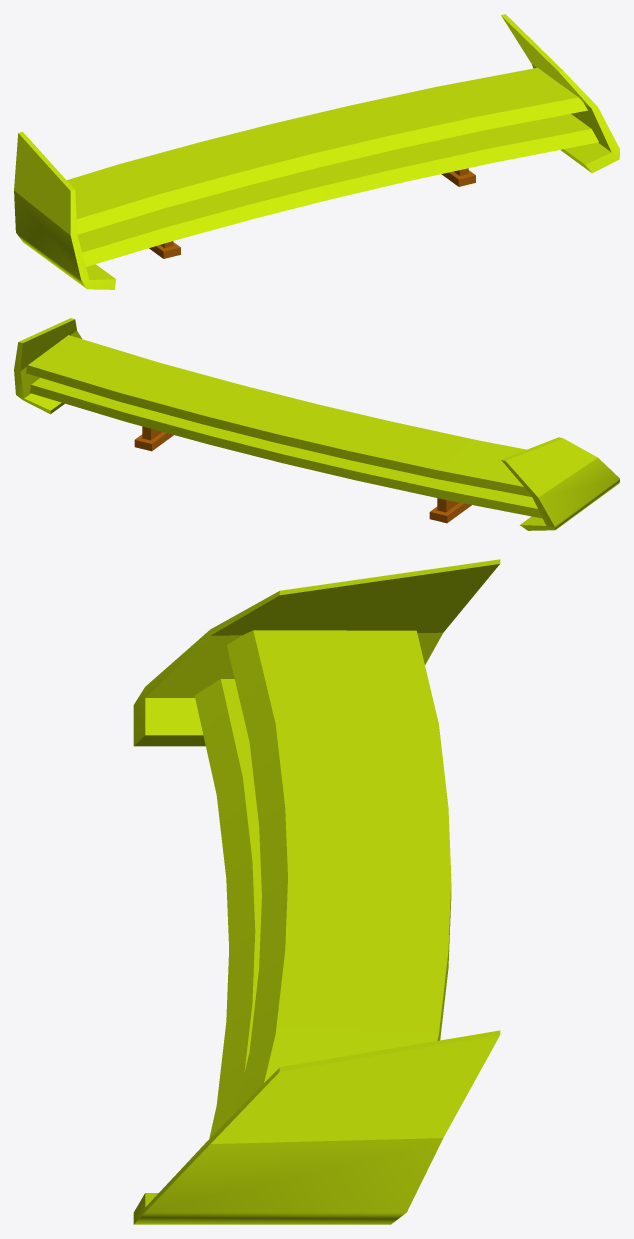
File: Spoiler03_ColorCoded.fbx
3 renders of one model, top to bottom at view 1: azimuth 30°, elevation 25°; view 2: azimuth 150°, elevation 25°; view 3: azimuth 270°, elevation 25°, orthographic. The views are drawn at different scales.
Parts seen in each view (by area): view 1: Spoiler03; view 2: Spoiler03; view 3: Spoiler03.
Part boxes in pixels (box(x1,y1,x2,y2)): Spoiler03: box(14, 14, 619, 289); Spoiler03: box(14, 318, 619, 530); Spoiler03: box(133, 559, 500, 1224).
Bounding box in the file's own units: 47.21 × 13.91 × 8.89.
